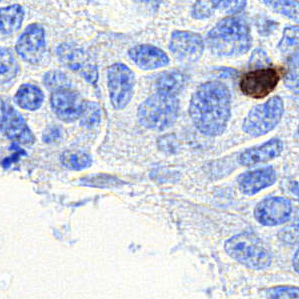Lymphocyte: (239, 67, 283, 97)
